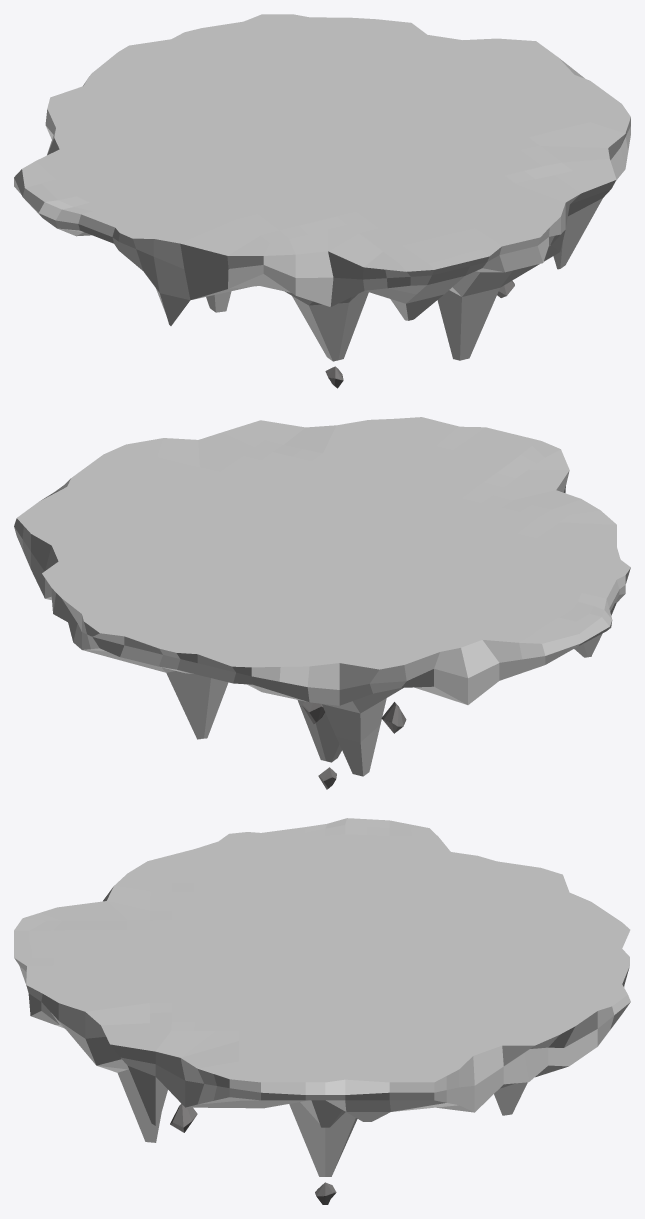
Rendered from Island.fbx.
3 renders of one model, top to bottom at view 1: azimuth 30°, elevation 25°; view 2: azimuth 150°, elevation 25°; view 3: azimuth 270°, elevation 25°, orthographic.
Visible parts, largest first — view 1: Cube; view 2: Cube, Cube.001; view 3: Cube, Cube.001.
Part boxes in pixels (x1,y1,x2,y2): Cube: (14,14,630,361); Cube: (14,417,630,776); Cube.001: (301,701,406,789); Cube: (14,818,630,1176); Cube.001: (170,1103,336,1204).
Size of the model in its own units: 3233 by 1385 by 3118.
